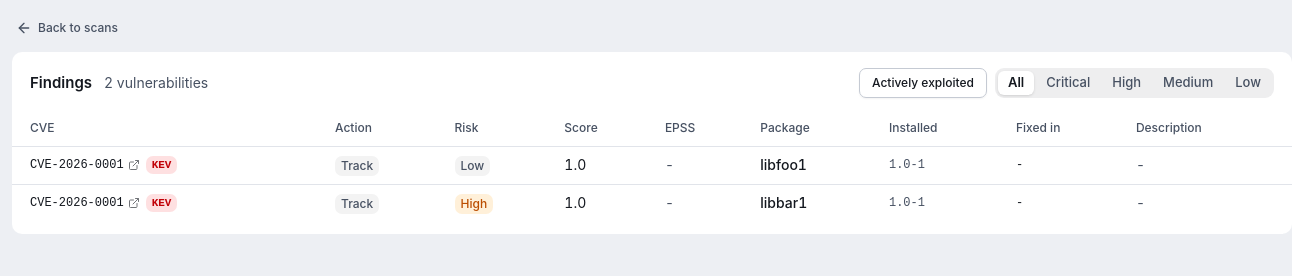
VulnerabilityTable › filters on the risk severity the badges show, with or without the KEV filter
Expected: the text "libfoo1" is shown, [748,146,877,184]
What coordinates should you click on to do the following:
click the button "High"
I would click on:
 (1127, 83)
Its box is [1102,71,1151,95].
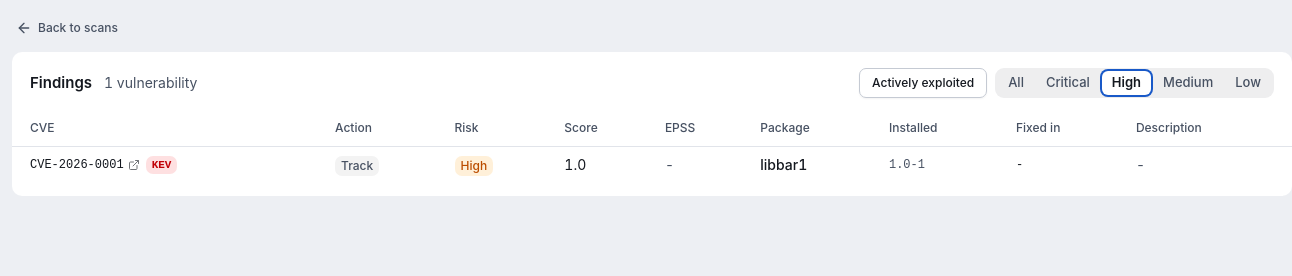
Expected: the text "libbar1" is shown, [748,146,877,184]
Now the text "libfoo1" is gone
What coordinates should you click on to do the following:
click the button "Actively exploited"
I would click on:
 (923, 83)
Its box is [859,68,987,98].
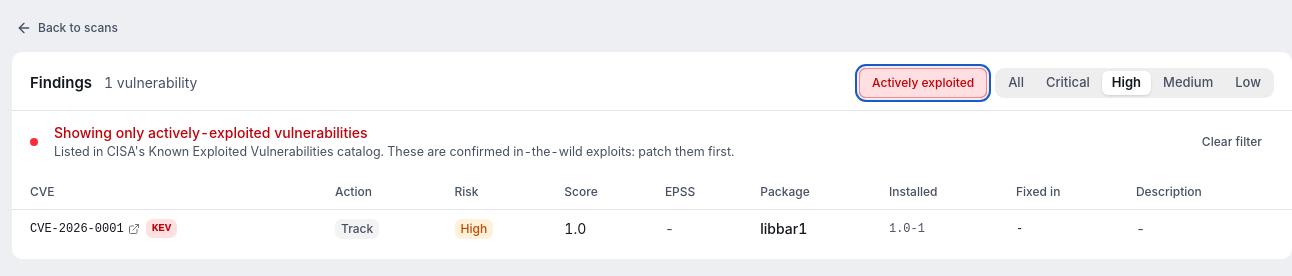
Expected: the text "libbar1" is shown, [748,210,877,247]
Now the text "Showing only actively-exploited vulnerabilities" is shown, box [54,124,368,141]
